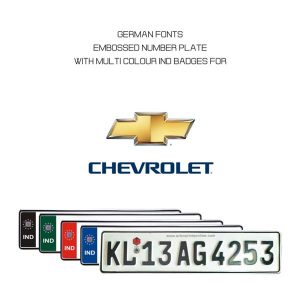number_plate: (99, 230, 283, 274)
